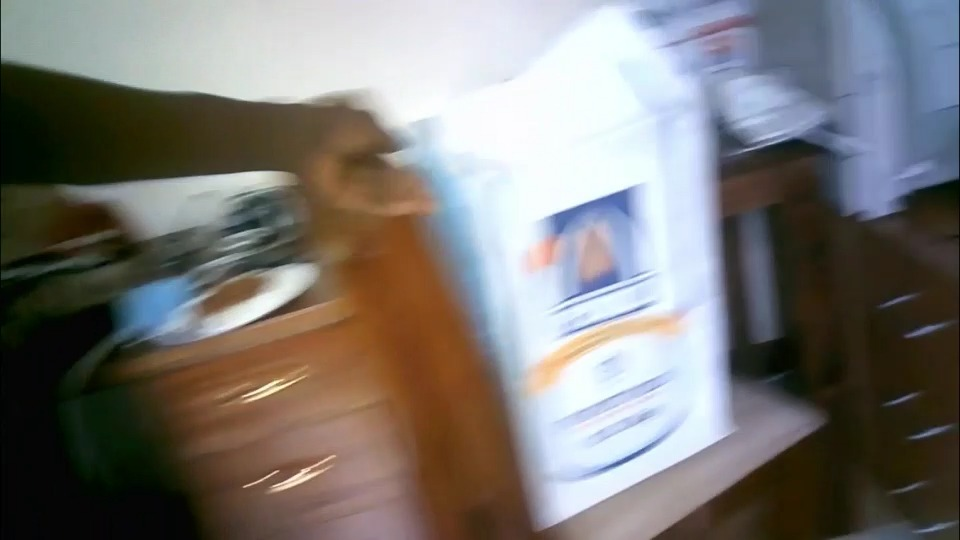wheat_flour_blue_label: (419, 53, 738, 522)
